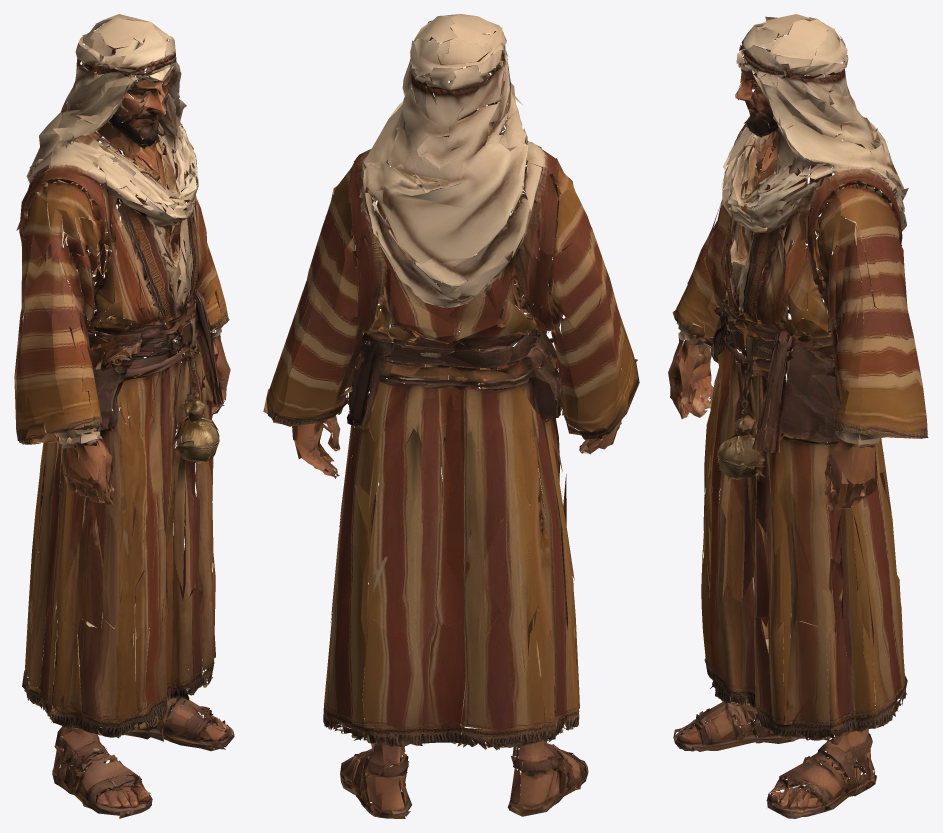
Rendered from npc-merchant.glb.
3 renders of one model, left to right at view 1: azimuth 30°, elevation 25°; view 2: azimuth 150°, elevation 25°; view 3: azimuth 270°, elevation 25°, orthographic. The views are drawn at different scales.
Parts seen in each view (by area): view 1: Mesh_0; view 2: Mesh_0; view 3: Mesh_0.
Boxes of the visible parts, x1,y1,x2,y2 form: Mesh_0: (14,14,234,818); Mesh_0: (263,14,639,818); Mesh_0: (668,14,928,818).
Size of the model in its own units: 0.7092 by 1.9 by 0.6002.
1 material, 1 textured.
